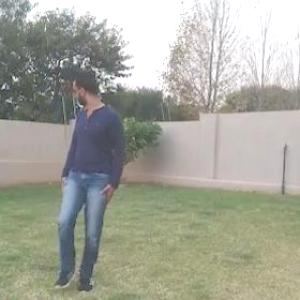follow: (61, 63, 116, 282)
